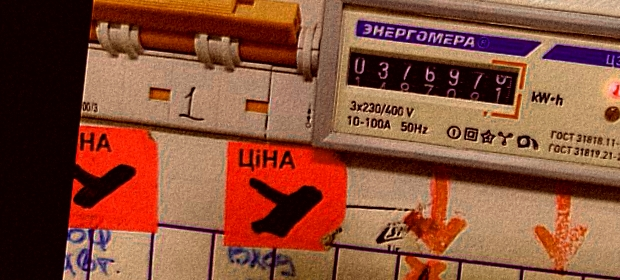0: (352, 54, 367, 75)
1: (492, 84, 505, 103)
3: (376, 59, 391, 80)
6: (423, 61, 438, 83)
7: (399, 59, 414, 81), (470, 68, 484, 91)
9: (446, 65, 461, 87)
screen: (336, 38, 532, 121)
